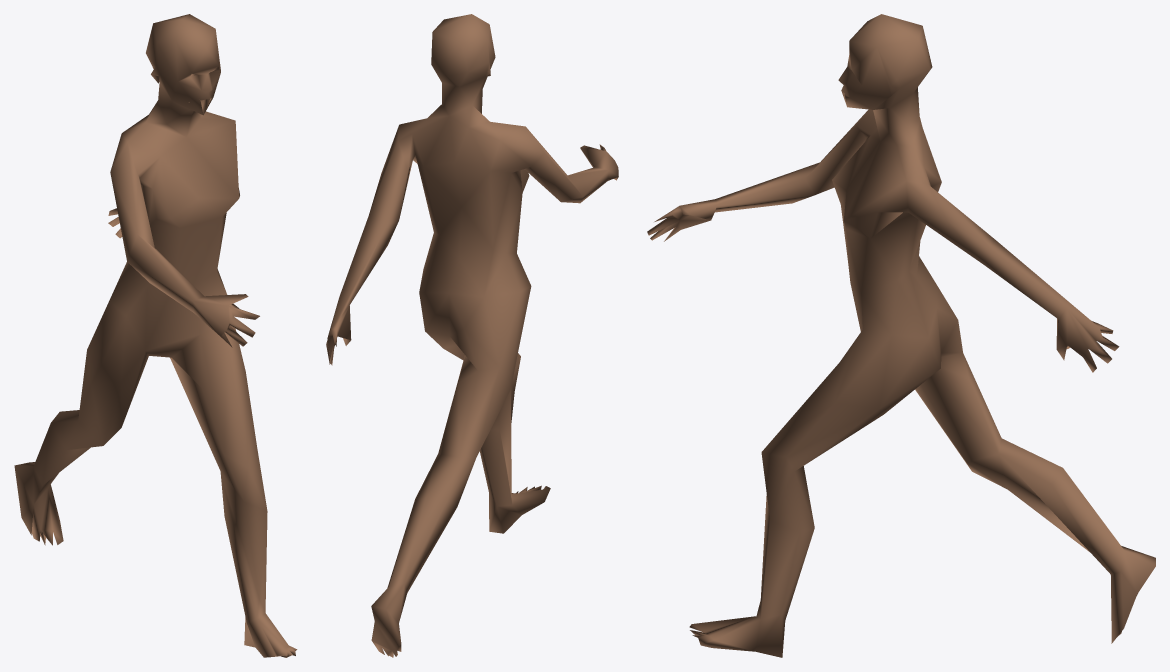
Rendered from obs_000031.obj.
3 views of the same model, side by side, from view 1: azimuth 30°, elevation 25°; view 2: azimuth 150°, elevation 25°; view 3: azimuth 270°, elevation 25° (orthographic). The views are drawn at different scales.
Parts seen in each view (by area): view 1: 1-base; view 2: 1-base; view 3: 1-base.
Boxes of the visible parts, x1,y1,x2,y2 form: 1-base: [14, 14, 297, 657]; 1-base: [326, 14, 618, 657]; 1-base: [647, 14, 1155, 657].
Bounding box in the file's own units: 0.3755 × 1.42 × 1.02.
